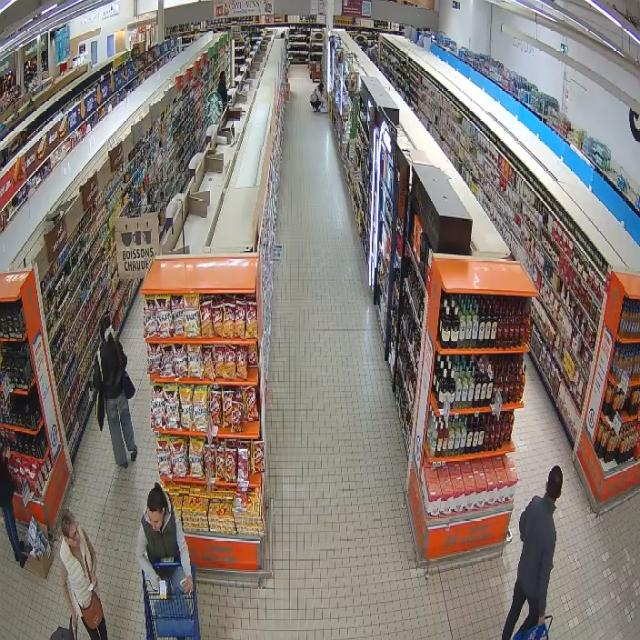bags: (117, 345, 135, 400), (80, 592, 103, 628), (96, 392, 105, 431)
hands: (148, 574, 159, 592), (184, 577, 193, 594), (71, 612, 78, 633), (90, 573, 98, 587), (539, 614, 545, 625)
person: (502, 466, 562, 639), (93, 315, 137, 467), (136, 483, 193, 594), (136, 483, 192, 593), (60, 509, 107, 639), (0, 448, 27, 567)
